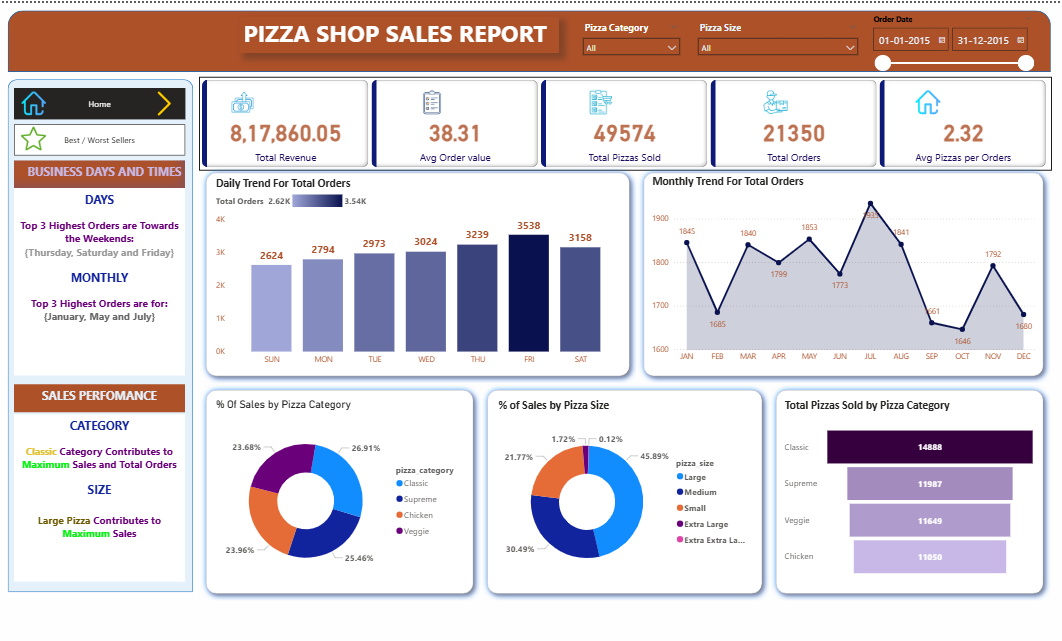

The dashboard page shown, as its layout file describes it:
{"tool":"powerbi","page":{"name":"Home","canvas":[1700,1020],"ordinal":0},"visuals":[{"type":"shape","box":[13.8,122.4,296.6,820.7],"z":0},{"type":"shape","box":[13.8,12.1,1669,98.3],"z":1000},{"type":"cardVisual","fields":{"Data":["Tbl_Pizza_Sales.Total Revenue","Tbl_Pizza_Sales.Avg Order value","Tbl_Pizza_Sales.Total Pizzas Sold","Tbl_Pizza_Sales.Total Orders","Tbl_Pizza_Sales.Avg Pizzas per Orders"]},"box":[320,118.3,1363.3,150],"z":2000},{"type":"shape","box":[320.7,260.3,700,348.3],"z":3000},{"type":"shape","box":[770.7,608.6,462.1,348.3],"z":4000},{"type":"shape","box":[1020.7,260.3,662.1,348.3],"z":5000},{"type":"shape","box":[320.7,608.6,450,348.3],"z":6000},{"type":"shape","box":[1232.8,608.6,450,348.3],"z":7000},{"type":"textbox","box":[25,251.8,273.2,44.6],"z":9000},{"type":"columnChart","title":"Daily Trend For Total Orders","fields":{"Category":["Tbl_Pizza_Sales.Order Name"],"Y":["Tbl_Pizza_Sales.Total Orders"]},"box":[341.7,275,660,311.7],"z":10000},{"type":"areaChart","title":"Monthly Trend For Total Orders","fields":{"Category":["Tbl_Pizza_Sales.Order Month"],"Y":["Tbl_Pizza_Sales.Total Orders"]},"box":[1039.7,274.1,624.1,310.3],"z":11000},{"type":"donutChart","title":"% Of Sales by Pizza Category","fields":{"Category":["Tbl_Pizza_Sales.pizza_category"],"Y":["Tbl_Pizza_Sales.Total Revenue"]},"box":[341.4,632.8,406.9,310.3],"z":12000},{"type":"donutChart","title":"% of Sales by Pizza Size","fields":{"Category":["Tbl_Pizza_Sales.pizza_size"],"Y":["Tbl_Pizza_Sales.Total Revenue"]},"box":[793.1,632.8,417.2,310.3],"z":13000},{"type":"funnel","title":"Total Pizzas Sold by Pizza Category","fields":{"Category":["Tbl_Pizza_Sales.pizza_category"],"Y":["Tbl_Pizza_Sales.Total Pizzas Sold"]},"box":[1251.7,632.8,412.1,310.3],"z":14000},{"type":"textbox","box":[25,296.4,273.2,300],"z":15000},{"type":"textbox","box":[25,610.7,273.2,44.6],"z":16000},{"type":"textbox","box":[25,657.1,273.2,267.9],"z":17000},{"type":"slicer","fields":{"Values":["Tbl_Pizza_Sales.pizza_size"]},"box":[1108.9,25,276.8,71.4],"z":18000},{"type":"slicer","fields":{"Values":["Tbl_Pizza_Sales.order_date"]},"box":[1385.7,12.5,278.6,98.2],"z":19000},{"type":"pageNavigator","box":[24.1,136.2,274.1,50],"z":20000},{"type":"pageNavigator","box":[24.1,193.1,274.1,50],"z":21000},{"type":"image","box":[229.2,136.5,68.8,50],"z":22000},{"type":"image","box":[24,136.5,62.5,49],"z":23000},{"type":"image","box":[24,192.7,62.5,50],"z":24000},{"type":"slicer","fields":{"Values":["Tbl_Pizza_Sales.pizza_category"]},"box":[923.1,24.6,175.4,72.3],"z":25000},{"type":"textbox","title":"PIZZA SHOP SALES REPORT","box":[386.2,21.5,510.8,58.5],"z":26000}]}

Visuals, with their boxes in screenshot pixels (x1, y1, x2, y2), scaled from the page's 1700x1020 canvas onto the 1062x641 screenshot:
shape: (x1=9, y1=77, x2=194, y2=593)
shape: (x1=9, y1=8, x2=1051, y2=69)
cardVisual - Tbl_Pizza_Sales.Total Revenue x Tbl_Pizza_Sales.Avg Order value: (x1=200, y1=74, x2=1052, y2=169)
shape: (x1=200, y1=164, x2=638, y2=382)
shape: (x1=481, y1=382, x2=770, y2=601)
shape: (x1=638, y1=164, x2=1051, y2=382)
shape: (x1=200, y1=382, x2=481, y2=601)
shape: (x1=770, y1=382, x2=1051, y2=601)
textbox: (x1=16, y1=158, x2=186, y2=186)
"Daily Trend For Total Orders" columnChart: (x1=213, y1=173, x2=626, y2=369)
"Monthly Trend For Total Orders" areaChart: (x1=650, y1=172, x2=1039, y2=367)
"% Of Sales by Pizza Category" donutChart: (x1=213, y1=398, x2=467, y2=593)
"% of Sales by Pizza Size" donutChart: (x1=495, y1=398, x2=756, y2=593)
"Total Pizzas Sold by Pizza Category" funnel: (x1=782, y1=398, x2=1039, y2=593)
textbox: (x1=16, y1=186, x2=186, y2=375)
textbox: (x1=16, y1=384, x2=186, y2=412)
textbox: (x1=16, y1=413, x2=186, y2=581)
slicer - Tbl_Pizza_Sales.pizza_size: (x1=693, y1=16, x2=866, y2=61)
slicer - Tbl_Pizza_Sales.order_date: (x1=866, y1=8, x2=1040, y2=70)
pageNavigator: (x1=15, y1=86, x2=186, y2=117)
pageNavigator: (x1=15, y1=121, x2=186, y2=153)
image: (x1=143, y1=86, x2=186, y2=117)
image: (x1=15, y1=86, x2=54, y2=117)
image: (x1=15, y1=121, x2=54, y2=153)
slicer - Tbl_Pizza_Sales.pizza_category: (x1=577, y1=15, x2=686, y2=61)
"PIZZA SHOP SALES REPORT" textbox: (x1=241, y1=14, x2=560, y2=50)
